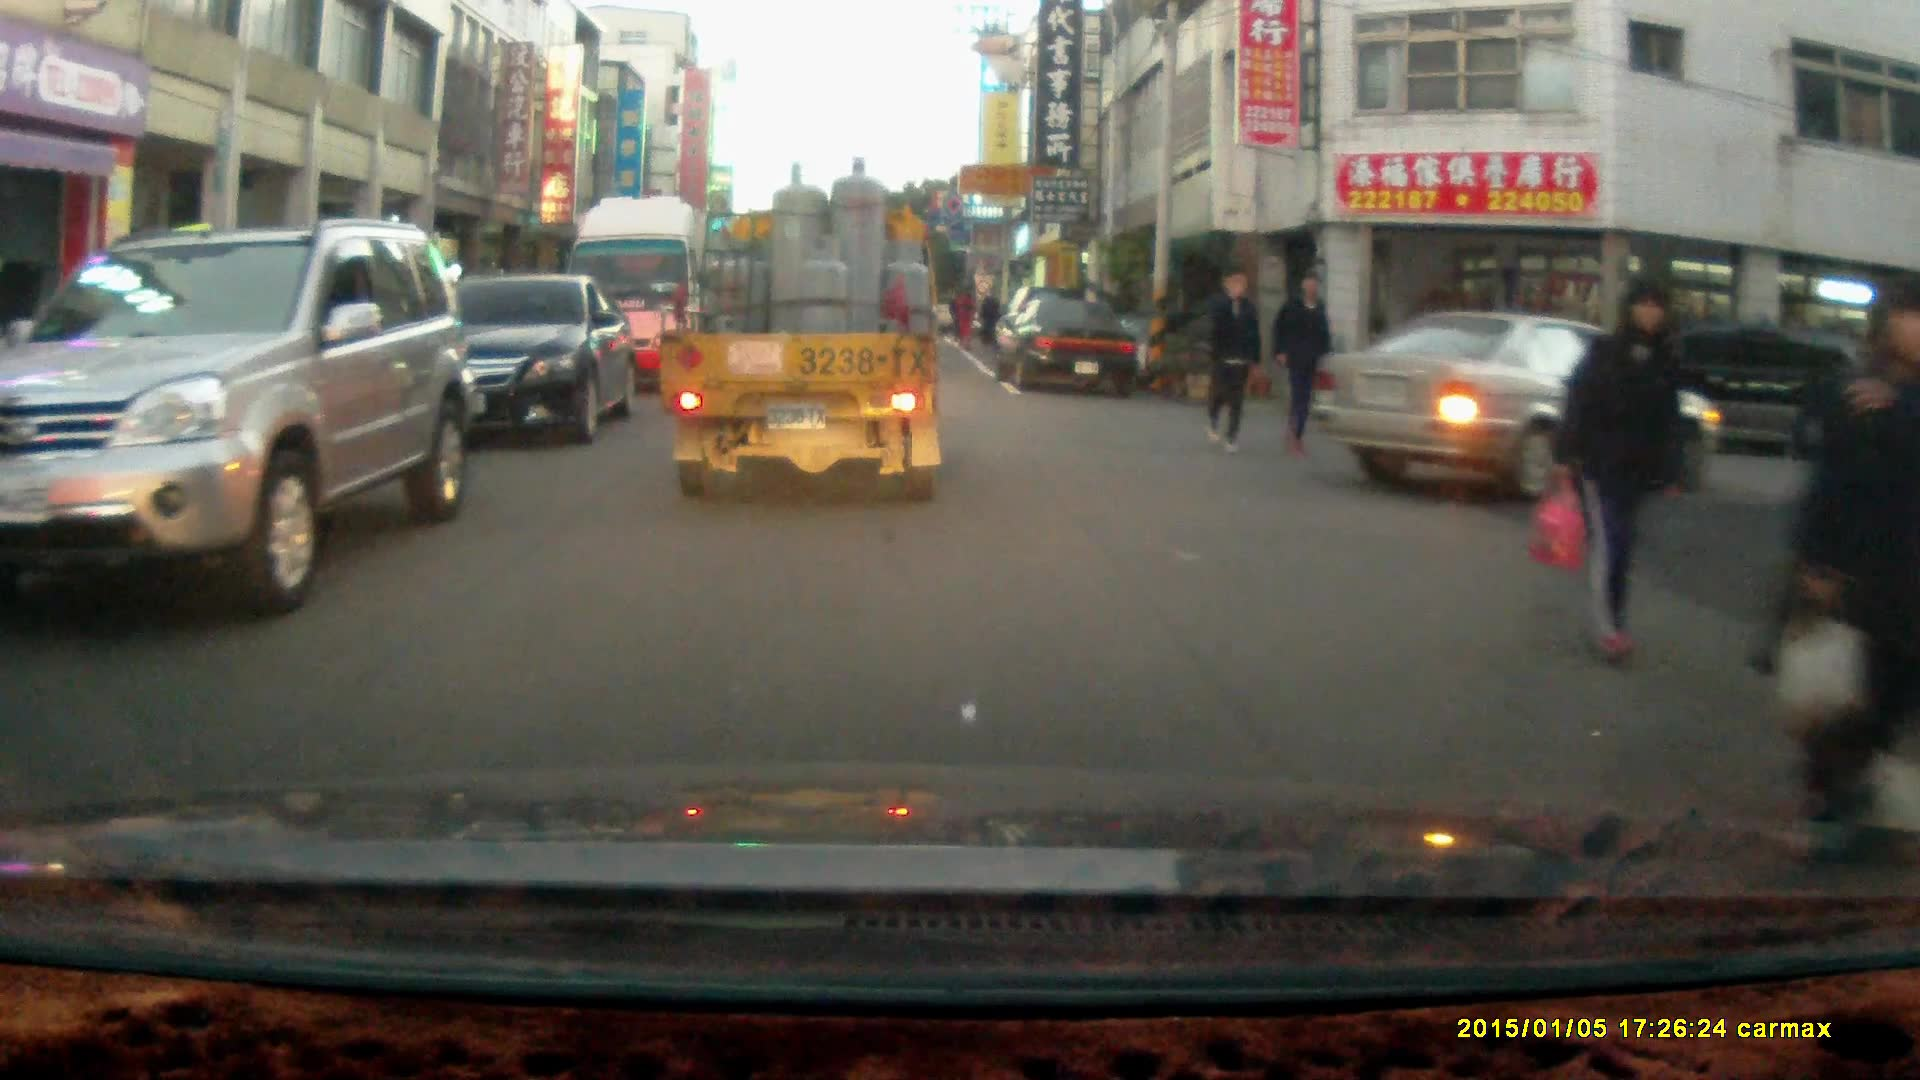pedestrian: (1791, 278, 1918, 824), (1560, 281, 1689, 661), (1269, 271, 1334, 458), (1200, 262, 1256, 452), (975, 280, 1002, 349)
vehicle: (1, 218, 474, 623), (660, 158, 945, 512), (1318, 310, 1726, 514), (380, 278, 637, 454), (563, 196, 736, 401), (989, 300, 1141, 400)
